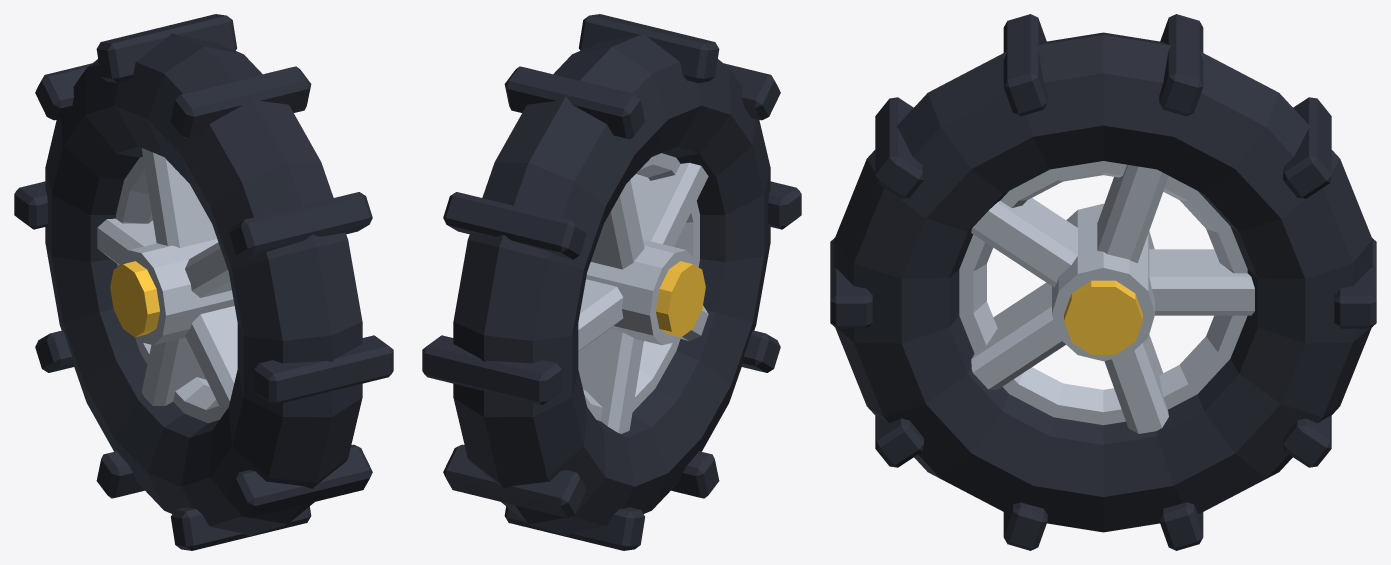
Rendered from robot_wheel.glb.
The picture shows the model from 3 angles, left to right: view 1: azimuth 30°, elevation 25°; view 2: azimuth 150°, elevation 25°; view 3: azimuth 270°, elevation 25°; orthographic projection. The views are drawn at different scales.
Visible parts, largest first — view 1: RobotWheel; view 2: RobotWheel; view 3: RobotWheel.
Boxes of the visible parts, box(x1,y1,x2,y2) form: RobotWheel: box(14, 14, 393, 550); RobotWheel: box(422, 14, 801, 550); RobotWheel: box(830, 14, 1376, 550).
Bounding box in the file's own units: 0.12 × 0.36 × 0.36.
